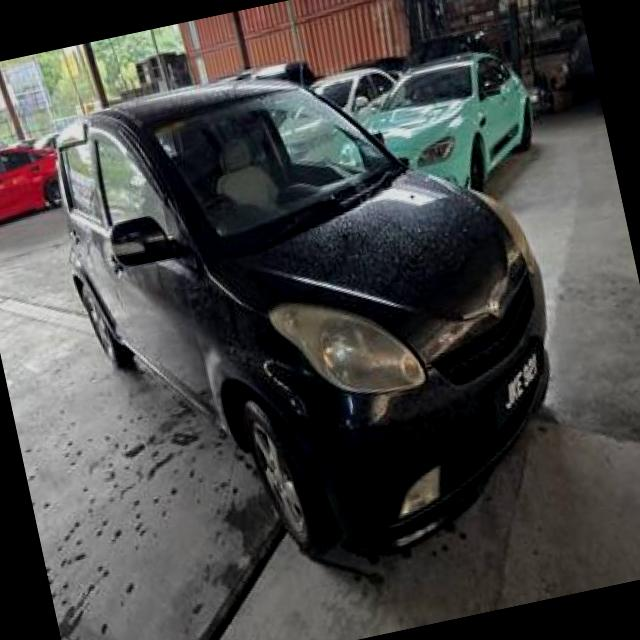PeroduaMyvi: (34, 18, 594, 612)
